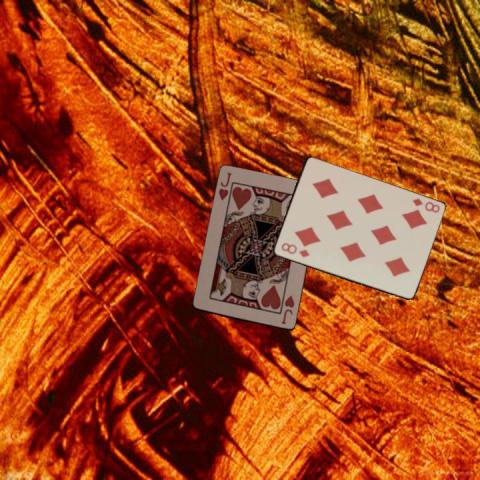8d: (410, 195, 442, 215), (278, 240, 311, 259)
Jh: (278, 293, 296, 326), (216, 169, 233, 202)
